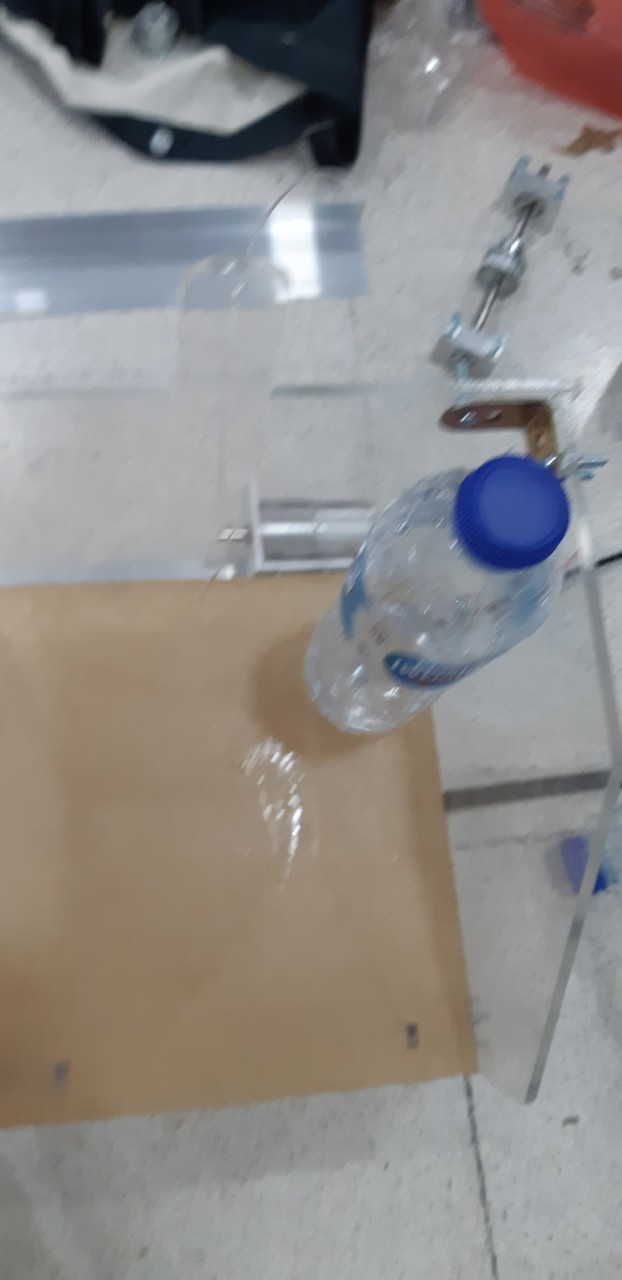PlasticBottle: (302, 461, 568, 739)
